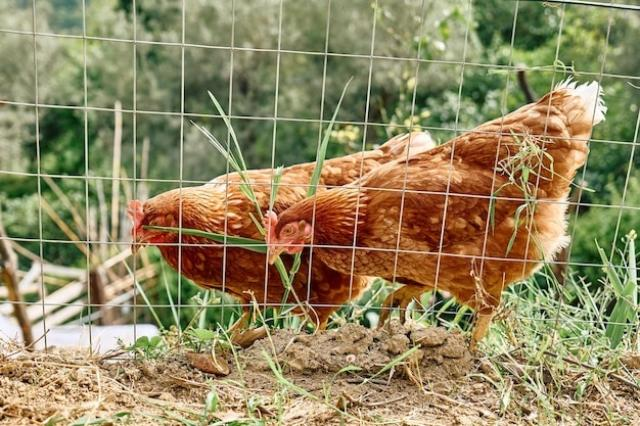Chicken: (263, 78, 608, 343), (125, 131, 437, 331)
